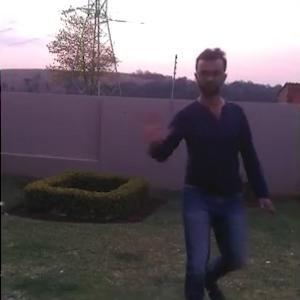follow_hand: (136, 105, 166, 144)
